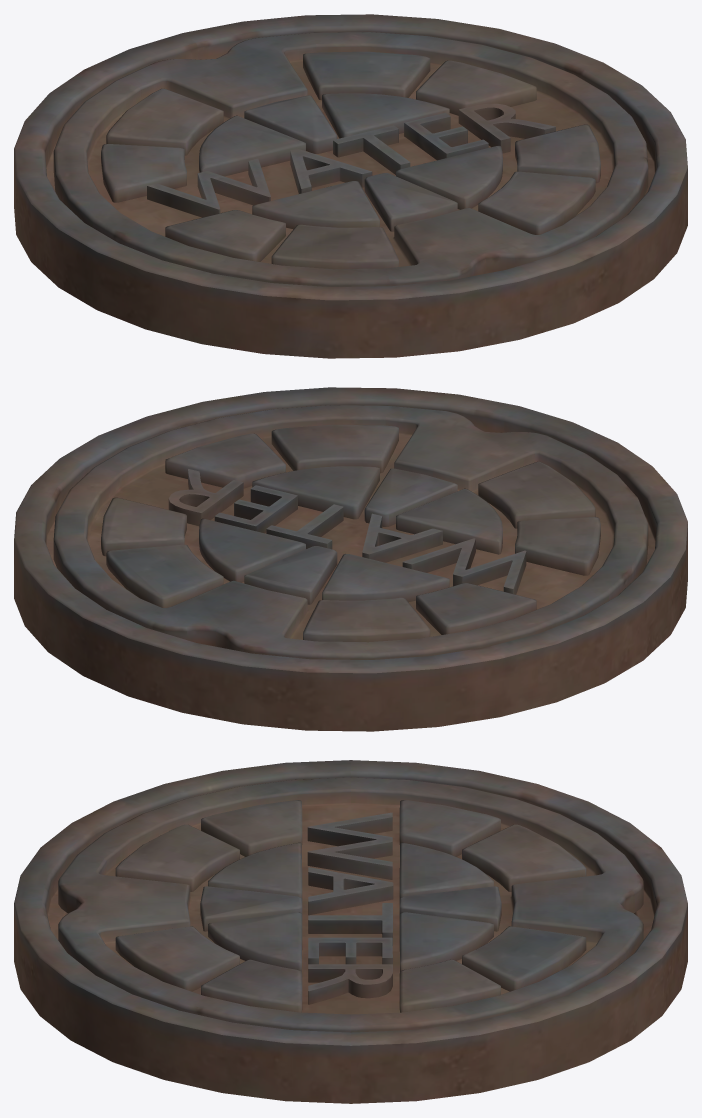
File: water_manhole_cover_1k.glb
3 views of the same model, one above another, from view 1: azimuth 30°, elevation 25°; view 2: azimuth 150°, elevation 25°; view 3: azimuth 270°, elevation 25° (orthographic).
Parts seen in each view (by area): view 1: water_manhole_cover_frame; view 2: water_manhole_cover_frame; view 3: water_manhole_cover_frame.
Part boxes in pixels (box(x1,y1,x2,y2)): water_manhole_cover_frame: box(14, 14, 687, 358); water_manhole_cover_frame: box(14, 387, 687, 731); water_manhole_cover_frame: box(14, 760, 687, 1103).
Size of the model in its own units: 0.6908 by 0.0676 by 0.6908.
Materials: 1 (1 with a texture image).
